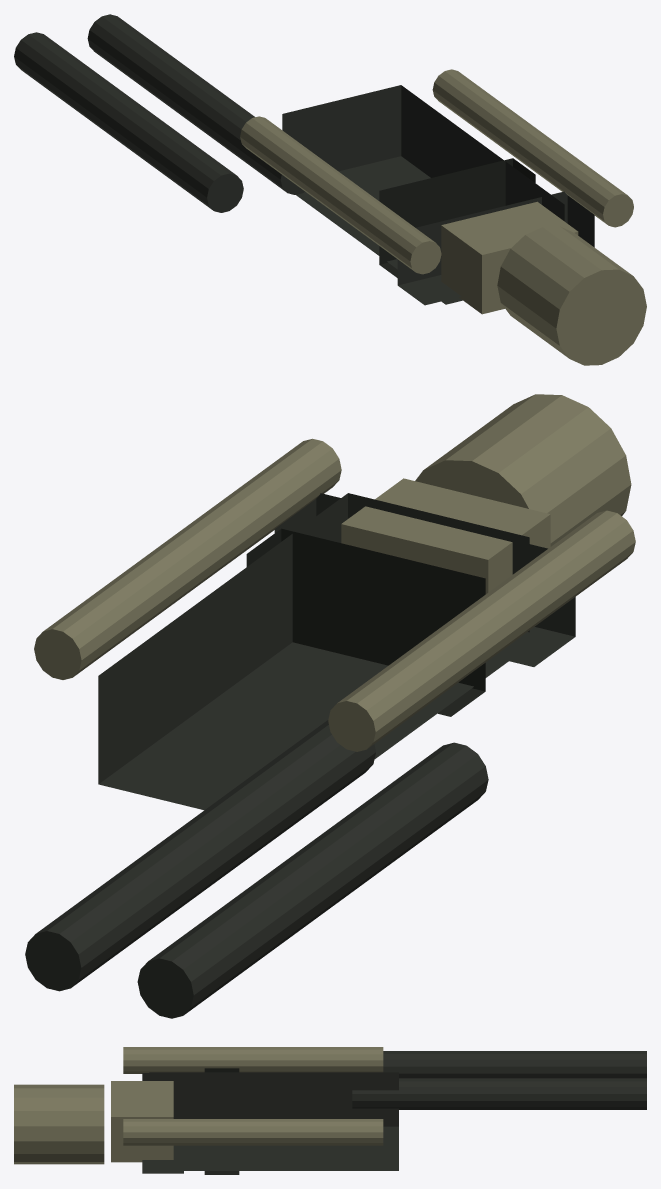
File: enemy_fast_feral.obj
3 views of the same model, one above another, from view 1: azimuth 30°, elevation 25°; view 2: azimuth 150°, elevation 25°; view 3: azimuth 270°, elevation 25° (orthographic). The views are drawn at different scales.
Visible parts, largest first — view 1: enemy_fast_feral; view 2: enemy_fast_feral; view 3: enemy_fast_feral.
Boxes of the visible parts, x1,y1,x2,y2 form: enemy_fast_feral: (14, 14, 646, 365); enemy_fast_feral: (25, 394, 635, 1018); enemy_fast_feral: (14, 1047, 646, 1174).
Bounding box in the file's own units: 0.7048 × 0.2338 × 1.83.
